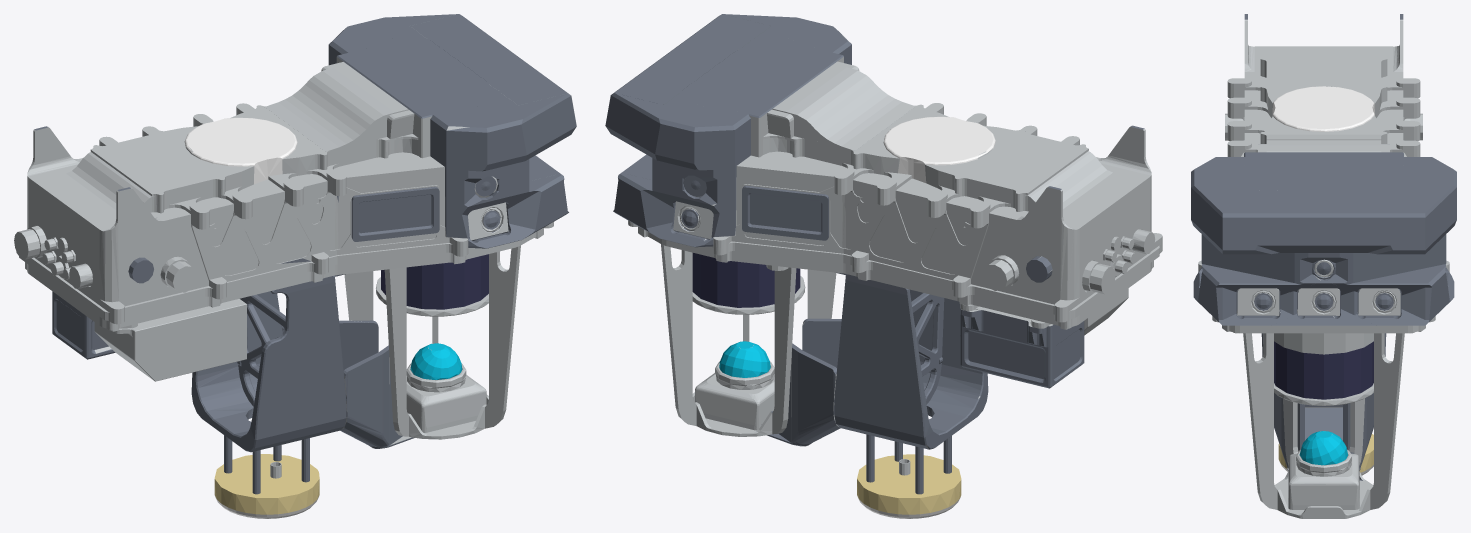
The picture shows the model from 3 angles, left to right: view 1: azimuth 30°, elevation 25°; view 2: azimuth 150°, elevation 25°; view 3: azimuth 270°, elevation 25°; orthographic projection. The views are drawn at different scales.
Visible parts, largest first — view 1: 090125-Box_model_simplified-in_CPT7_CSYS; view 2: 090125-Box_model_simplified-in_CPT7_CSYS; view 3: 090125-Box_model_simplified-in_CPT7_CSYS.
Part boxes in pixels (bbox=[...]): 090125-Box_model_simplified-in_CPT7_CSYS: bbox=[14, 14, 576, 518]; 090125-Box_model_simplified-in_CPT7_CSYS: bbox=[605, 14, 1162, 518]; 090125-Box_model_simplified-in_CPT7_CSYS: bbox=[1191, 14, 1456, 518].
Size of the model in its own units: 0.4668 by 0.2415 by 0.3679.
